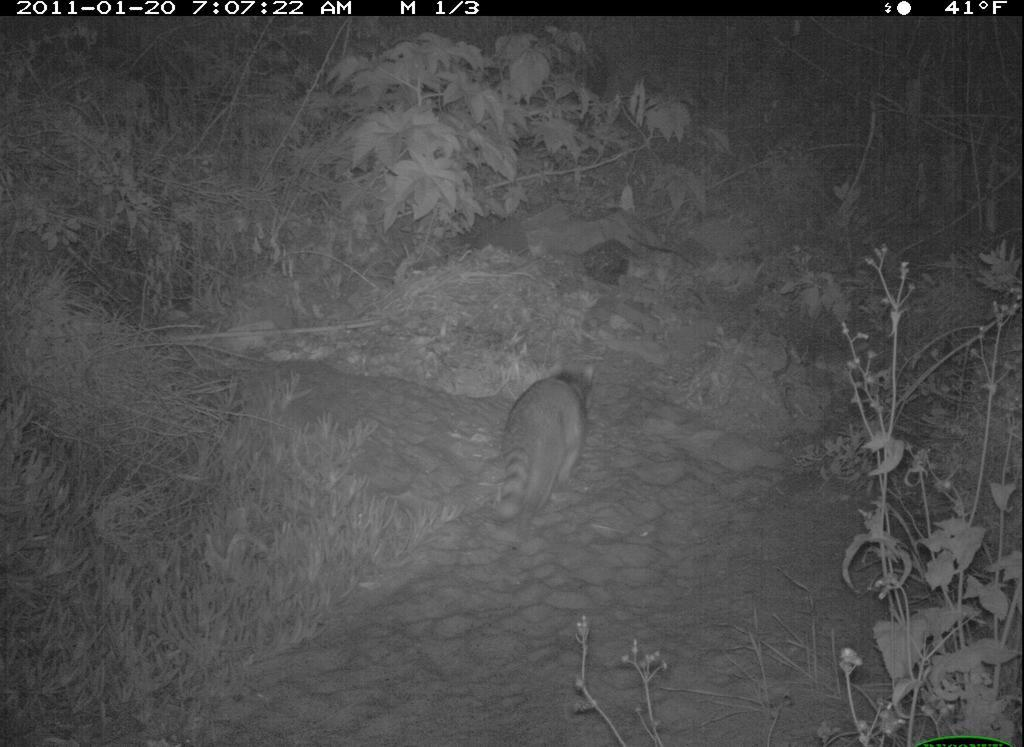raccoon: (475, 358, 608, 547)
